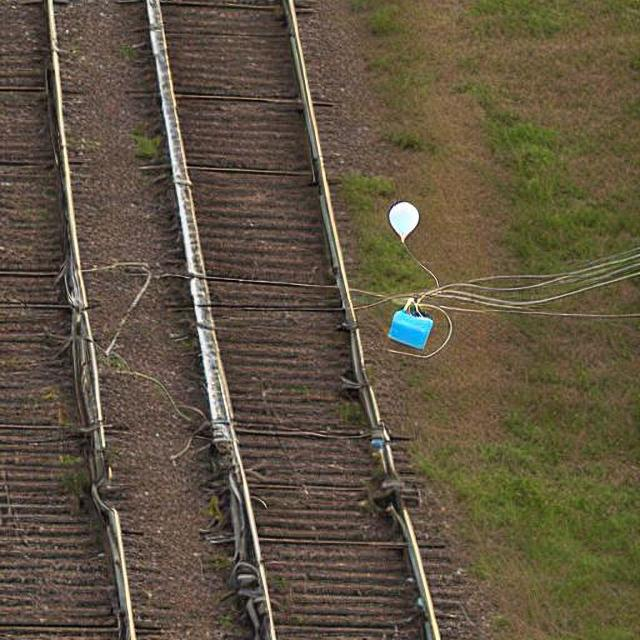balloon: (380, 196, 421, 253)
